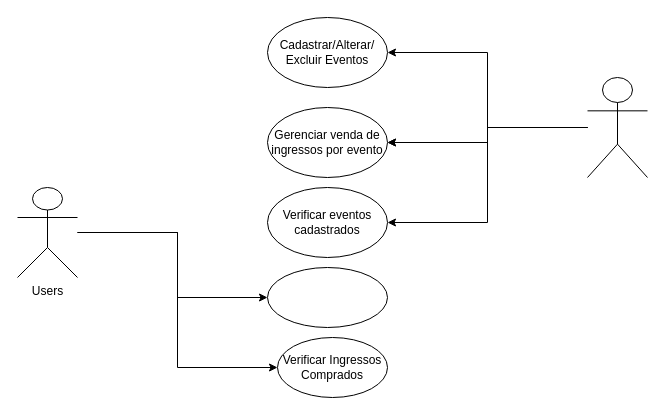
This 665x415 diagram has some shape labels left out. Here are the shapes that lost their labels. From the top down, the centre of each, then its label:
At pixel 617 127: "Empresas".
At pixel 327 297: "Comprar Ingressos".
